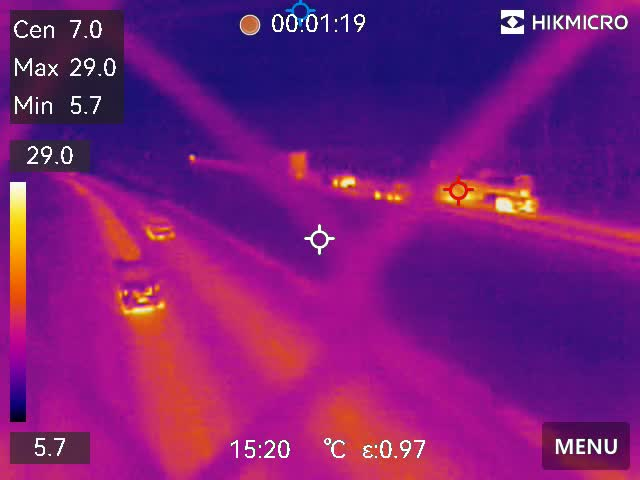heavyTruck: (435, 158, 539, 215)
